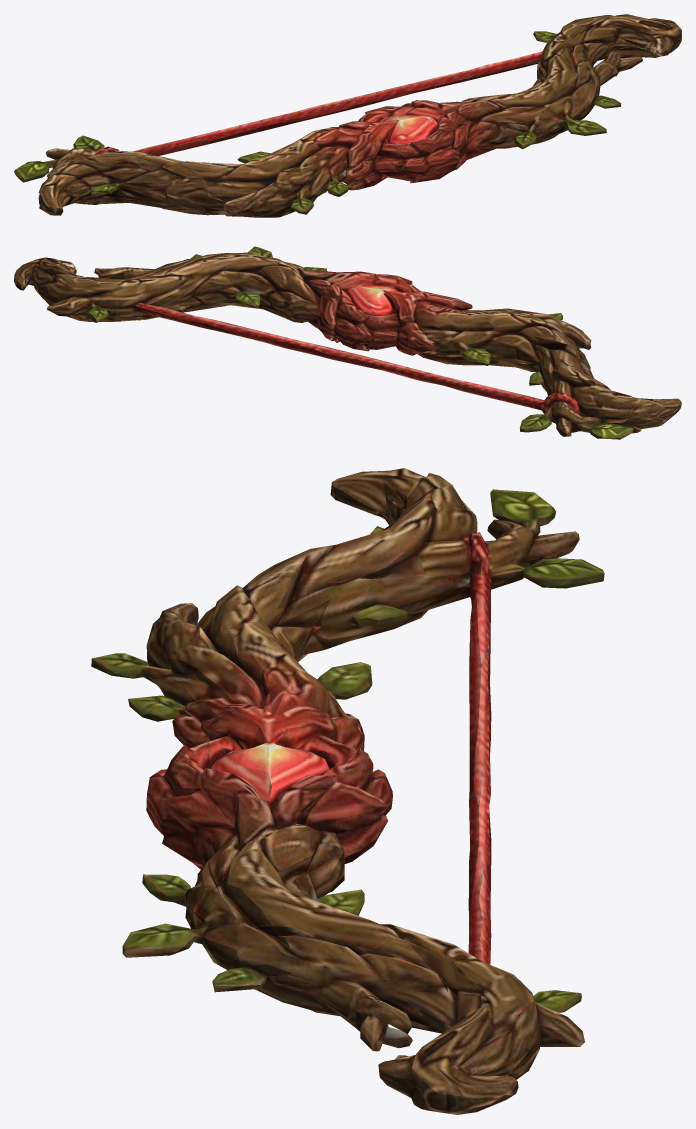
The model's file is heartseeker_bow.glb.
3 renders of one model, top to bottom at view 1: azimuth 30°, elevation 25°; view 2: azimuth 150°, elevation 25°; view 3: azimuth 270°, elevation 25°, orthographic. The views are drawn at different scales.
Bounding box in the file's own units: 2.74 × 0.22 × 0.9586.
Materials: 1 (1 with a texture image).
